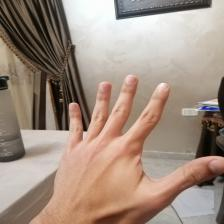five: (56, 71, 220, 212)
